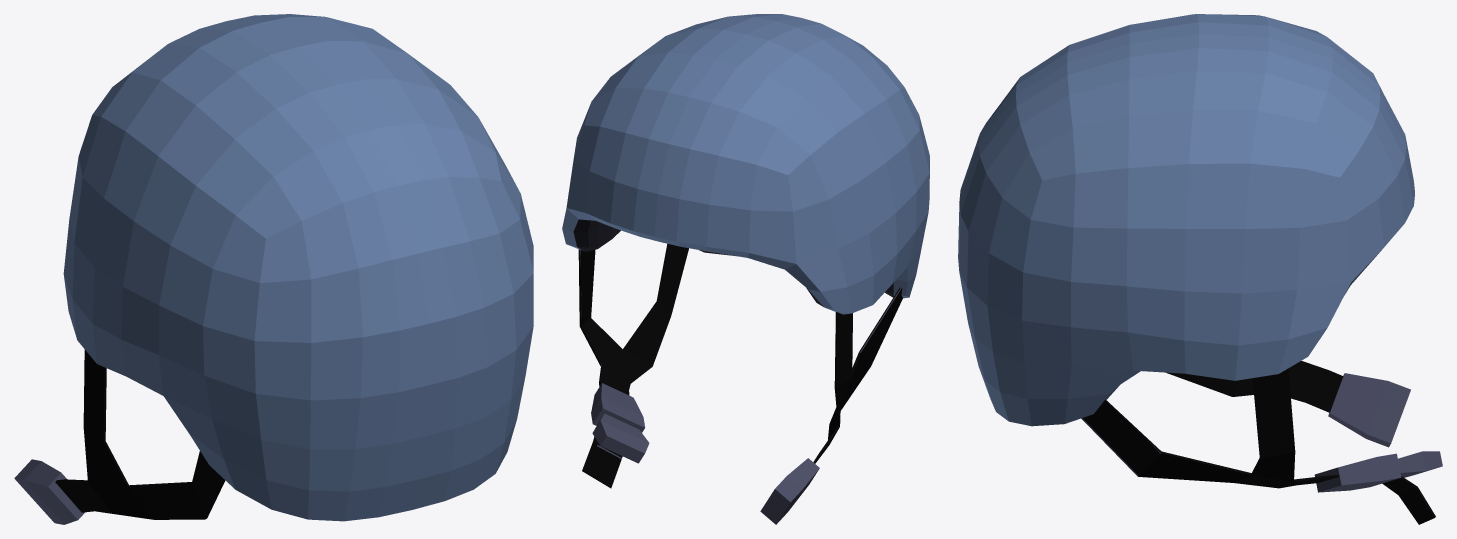
Rendered from helmet.fbx.
3 renders of one model, left to right at view 1: azimuth 30°, elevation 25°; view 2: azimuth 150°, elevation 25°; view 3: azimuth 270°, elevation 25°, orthographic. The views are drawn at different scales.
Parts seen in each view (by area): view 1: Cube; view 2: Cube; view 3: Cube.
Boxes of the visible parts, bbox=[...] form: Cube: bbox=[14, 14, 533, 524]; Cube: bbox=[562, 14, 929, 524]; Cube: bbox=[958, 14, 1442, 524].
Bounding box in the file's own units: 22.92 × 30.58 × 28.16.
